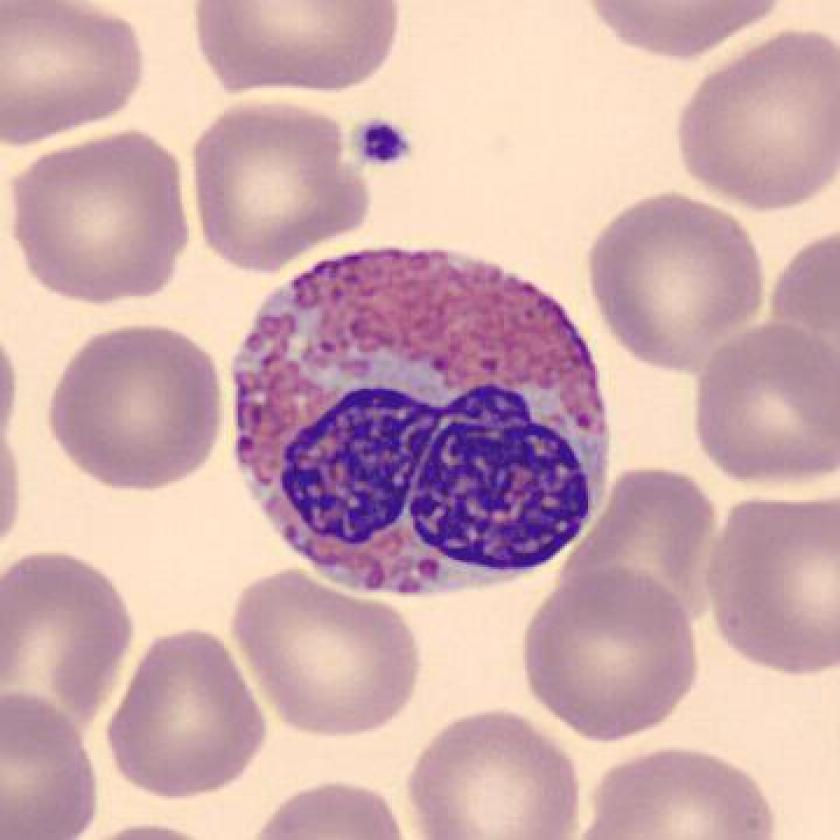eosinophil: (216, 235, 622, 612)
